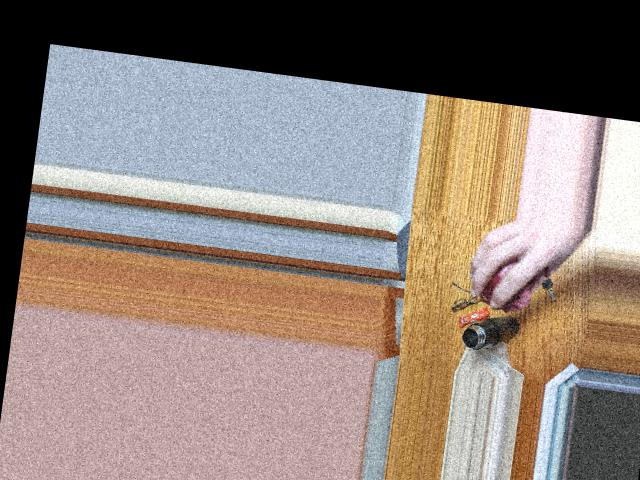onion: (477, 249, 547, 304)
